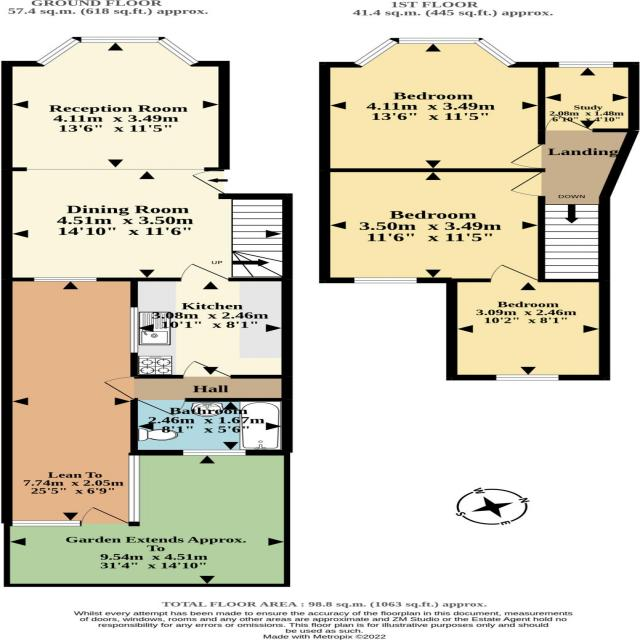DOOR: (80, 505, 131, 526), (191, 169, 232, 194), (507, 143, 546, 169), (507, 171, 545, 197), (543, 113, 595, 132), (135, 398, 187, 417), (179, 263, 230, 282), (182, 360, 232, 379), (488, 264, 540, 282), (102, 376, 139, 400)
ROOM: (1, 36, 293, 282), (318, 38, 546, 172), (318, 168, 546, 283), (446, 264, 610, 381), (130, 263, 293, 379)
WINDOW: (33, 36, 201, 67), (351, 37, 518, 68), (127, 454, 141, 523), (495, 374, 560, 381), (353, 277, 418, 284), (182, 449, 247, 456), (130, 307, 139, 353), (557, 61, 615, 68), (33, 277, 97, 282)
